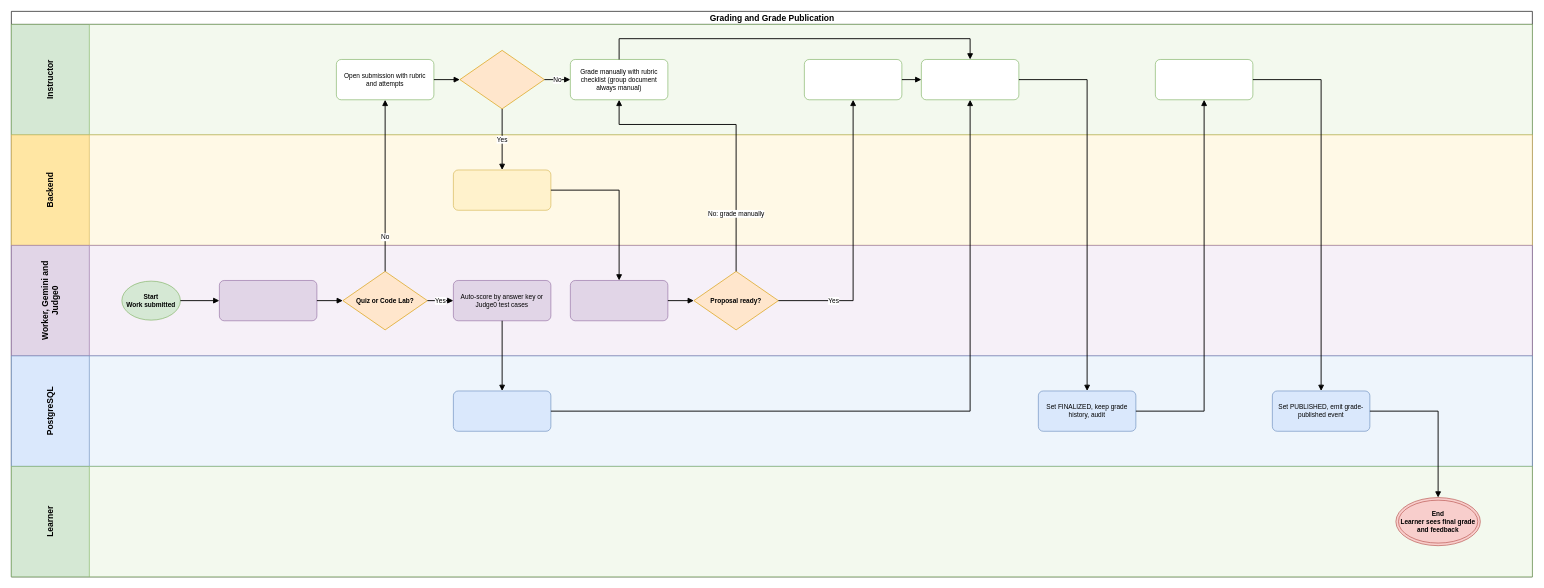
This 1544x588 diagram has some shape labels left out. The shapes that lost their labels are listed below. From the top down, each one's centre as x and y in pixels, then its label:
At (x=501, y=79): "Request AI proposal?".
At (x=853, y=79): "Accept or override proposal (reason if different)".
At (x=970, y=79): "Save DRAFT grade, then finalize one or many".
At (x=1204, y=79): "Publish grades for the publication".
At (x=502, y=189): "Check AI switch and caps, reserve instructor credit".
At (x=268, y=300): "Create PENDING grade for attempt or group submission".
At (x=619, y=300): "Generate rubric-based proposal (Gemini), settle credit".
At (x=502, y=410): "Save DRAFT auto score (publish now if instant results enabled)".
